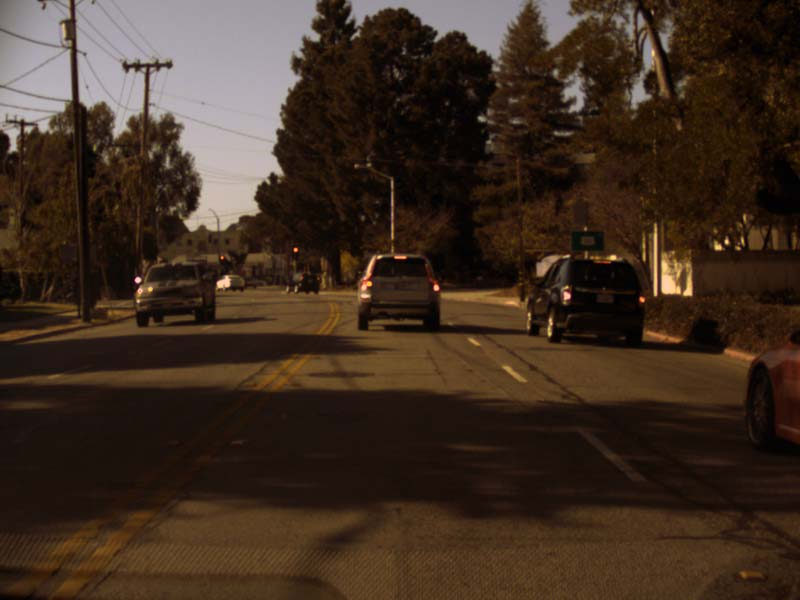Red: (292, 246, 297, 259), (219, 255, 225, 265)
